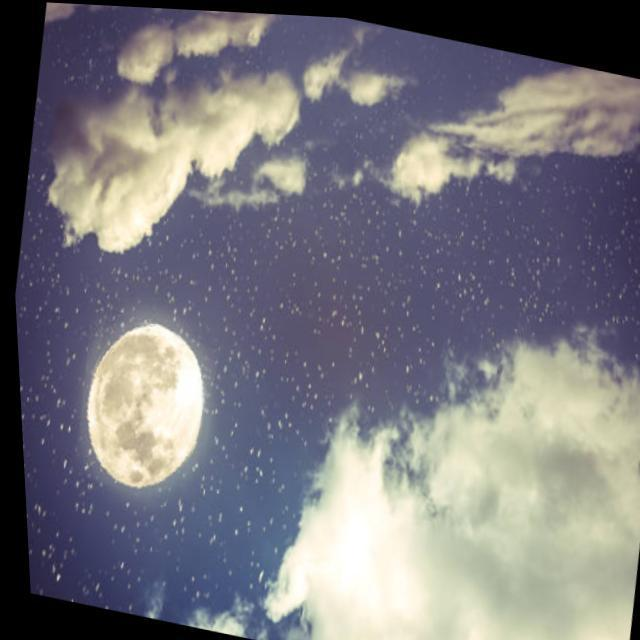moon: (61, 307, 220, 510)
